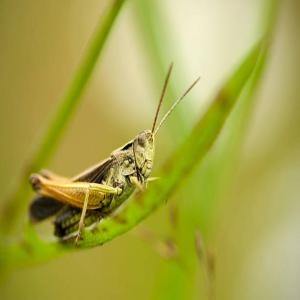locust: (41, 110, 180, 240)
